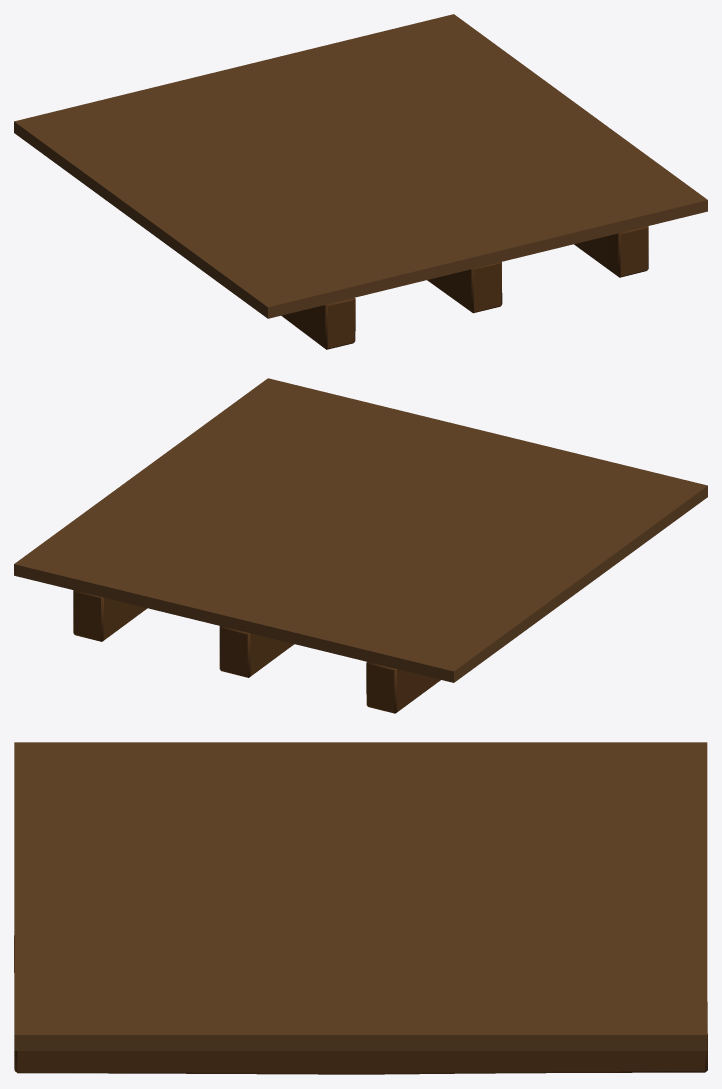
Rendered from decke.glb.
3 views of the same model, one above another, from view 1: azimuth 30°, elevation 25°; view 2: azimuth 150°, elevation 25°; view 3: azimuth 270°, elevation 25° (orthographic). The views are drawn at different scales.
Visible parts, largest first — view 1: decke; view 2: decke; view 3: decke.
Part boxes in pixels (box(x1,y1,x2,y2)): decke: box(14, 14, 707, 349); decke: box(14, 378, 707, 713); decke: box(14, 742, 707, 1074).
Bounding box in the file's own units: 2 × 0.2526 × 2.
